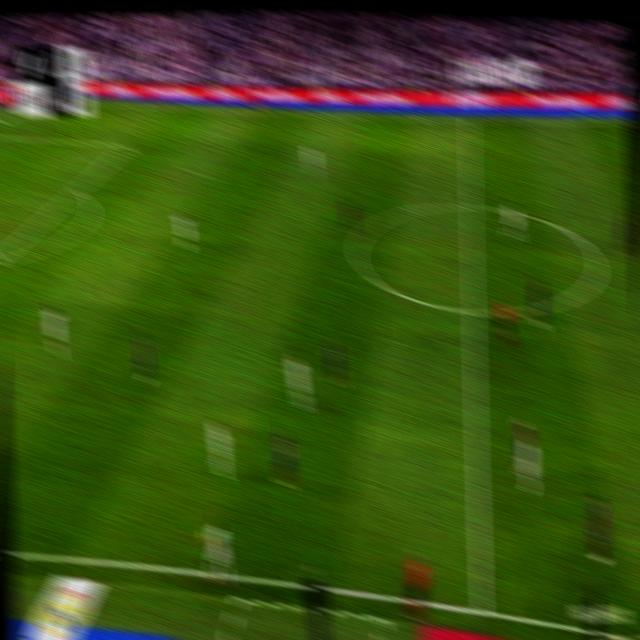bigarea_top_inner: (119, 137, 132, 154)
bottom_arc_area_intersection: (0, 247, 6, 269)
halfcircle_bottom: (465, 296, 483, 325)
halfcircle_top: (462, 195, 481, 218)
midline_bottom_intersection: (468, 592, 494, 626)
midline_top_intersection: (462, 112, 477, 129)
top_arc_area_intersection: (70, 181, 84, 198)
